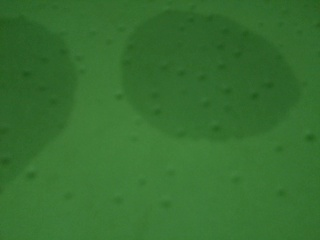Water_detected: (0, 57, 99, 240), (148, 25, 267, 122)
